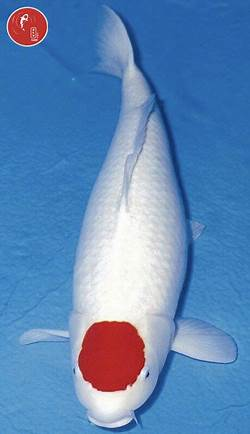sun: (19, 3, 240, 428)
